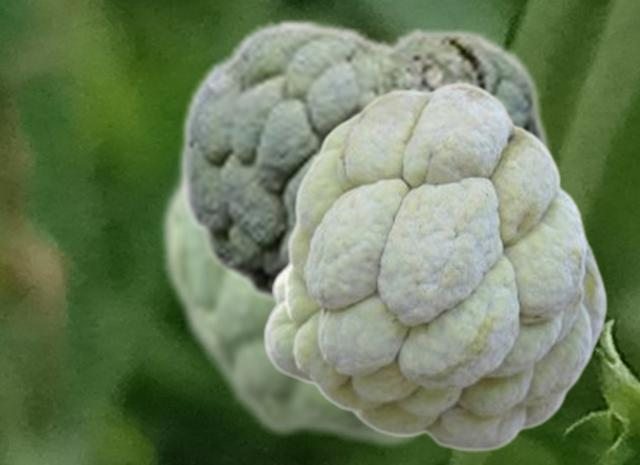atis: (262, 81, 607, 451), (178, 17, 550, 308), (156, 143, 429, 451)
